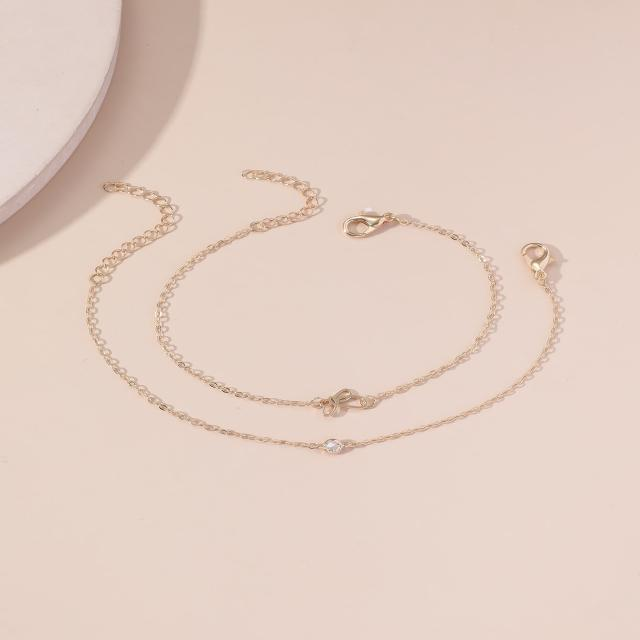bracelet: (48, 79, 640, 499)
